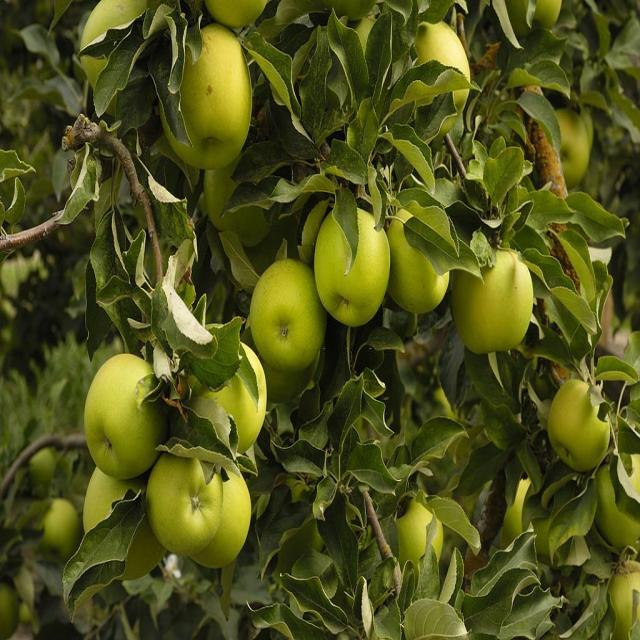Green Apple: (164, 29, 255, 168), (88, 355, 175, 471), (452, 243, 534, 355), (194, 336, 270, 454), (82, 458, 163, 567), (317, 206, 388, 324), (255, 255, 330, 365), (189, 446, 257, 566), (147, 444, 222, 545), (385, 200, 450, 314), (405, 20, 473, 128), (83, 1, 156, 97), (208, 147, 279, 239), (553, 374, 613, 467), (595, 445, 640, 553), (387, 492, 445, 571), (509, 474, 551, 551), (548, 107, 597, 167), (605, 556, 640, 640), (508, 1, 565, 37), (204, 1, 268, 32), (49, 501, 80, 541), (32, 447, 57, 481)
